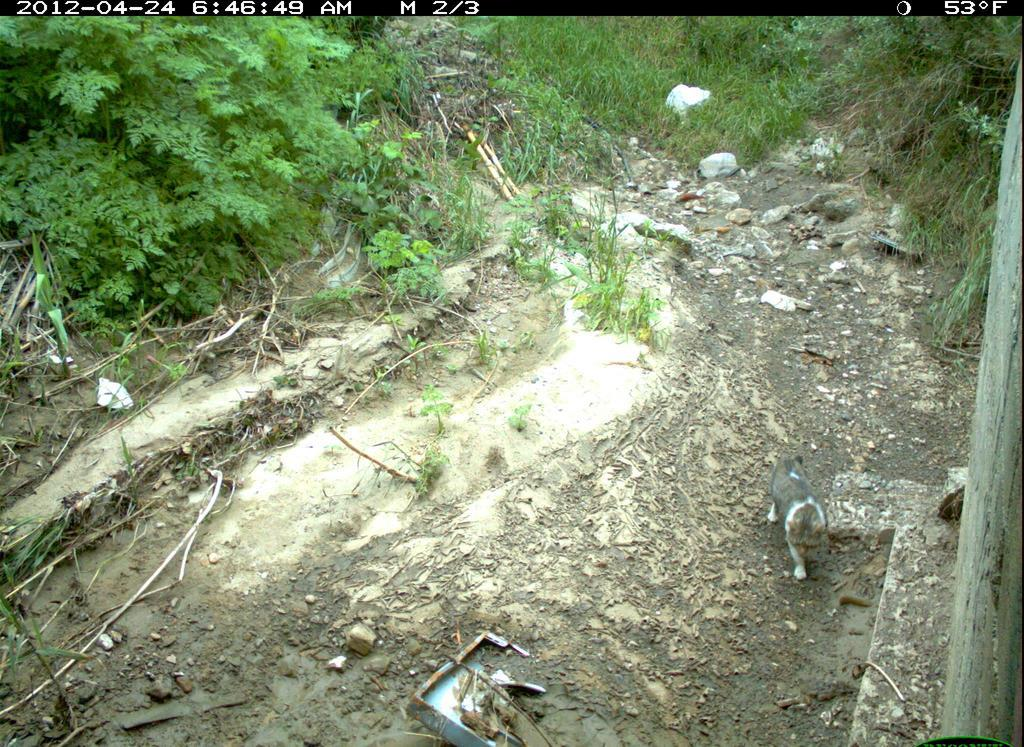cat: (754, 441, 850, 589)
